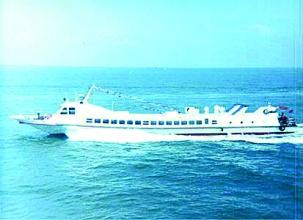otherboat: (12, 85, 297, 139)
